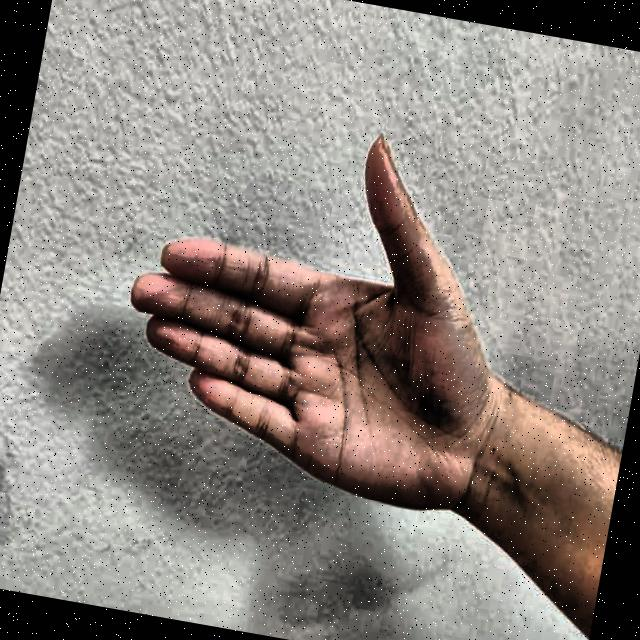Aa: (77, 65, 535, 552)
